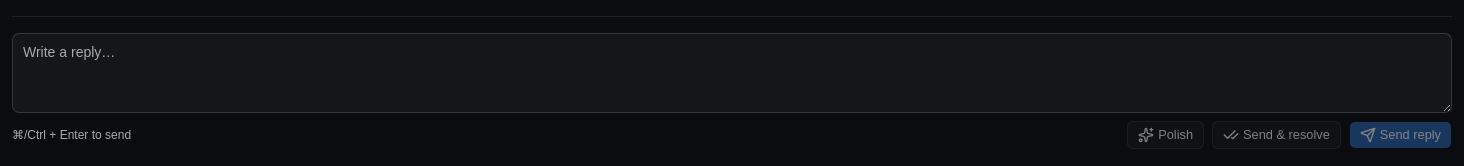
Scenario: TicketReplyComposer polish — when it can run › says why it is greyed out, which a disabled button cannot do alone
The width and height of the screenshot is (1464, 166).
Hover over the element showing "Polish".
mouse_move(1166, 135)  # box [1127,121,1204,149]
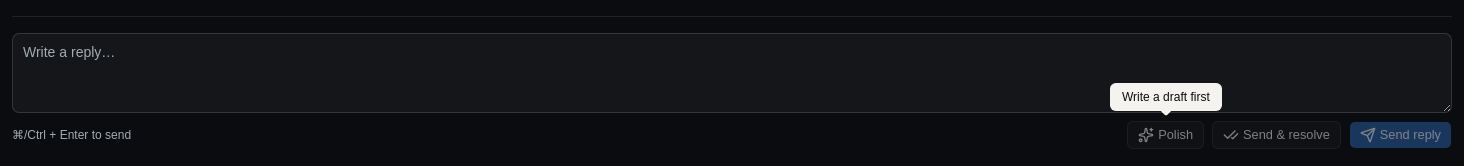
Check: the tooltip reads "Write a draft first", box [1122,90,1210,104]
